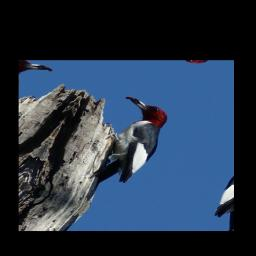Woodpecker: (60, 95, 182, 212)
